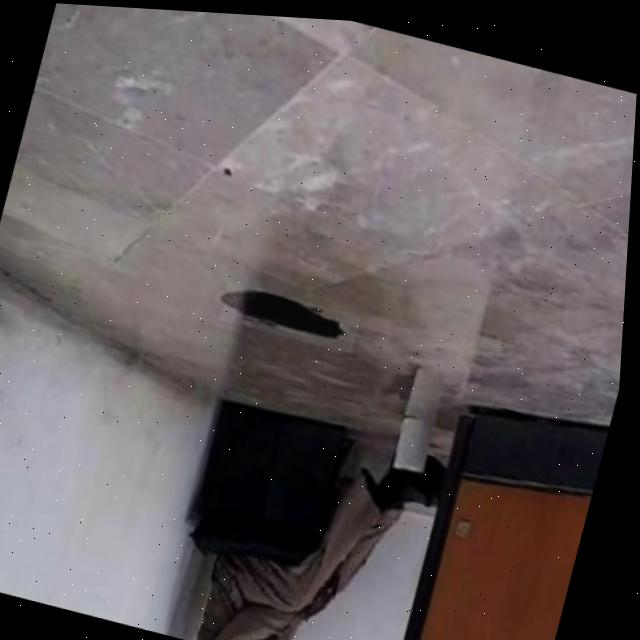spillage: (230, 288, 358, 340)
